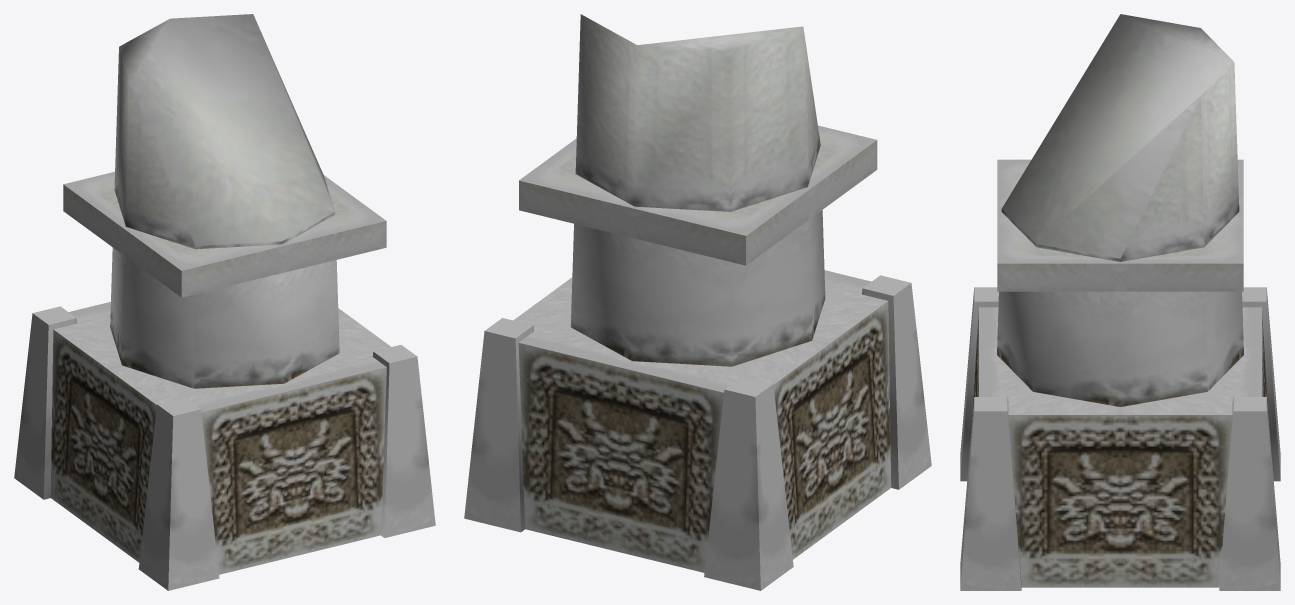
Rendered from general_obj_bigtower06.fbx.
3 renders of one model, left to right at view 1: azimuth 30°, elevation 25°; view 2: azimuth 150°, elevation 25°; view 3: azimuth 270°, elevation 25°, orthographic. The views are drawn at different scales.
Parts seen in each view (by area): view 1: Sphere01; view 2: Sphere01; view 3: Sphere01.
Part boxes in pixels (x1,y1,x2,y2): Sphere01: (14,14,435,590); Sphere01: (464,14,931,590); Sphere01: (960,14,1280,590).
Size of the model in its own units: 5.22 by 8.27 by 5.21.
